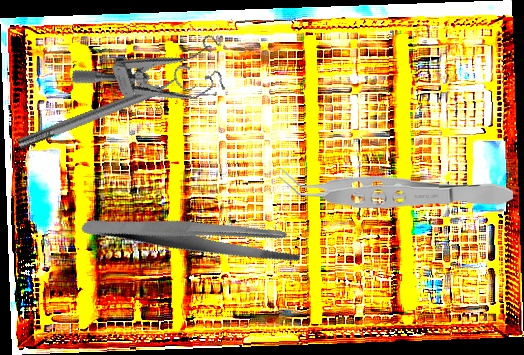Dressing Forceps: (80, 163, 307, 309)
Fixation Ring: (13, 62, 198, 157)
Speculum: (68, 20, 242, 137)
Tissue Forceps: (278, 166, 514, 215)
